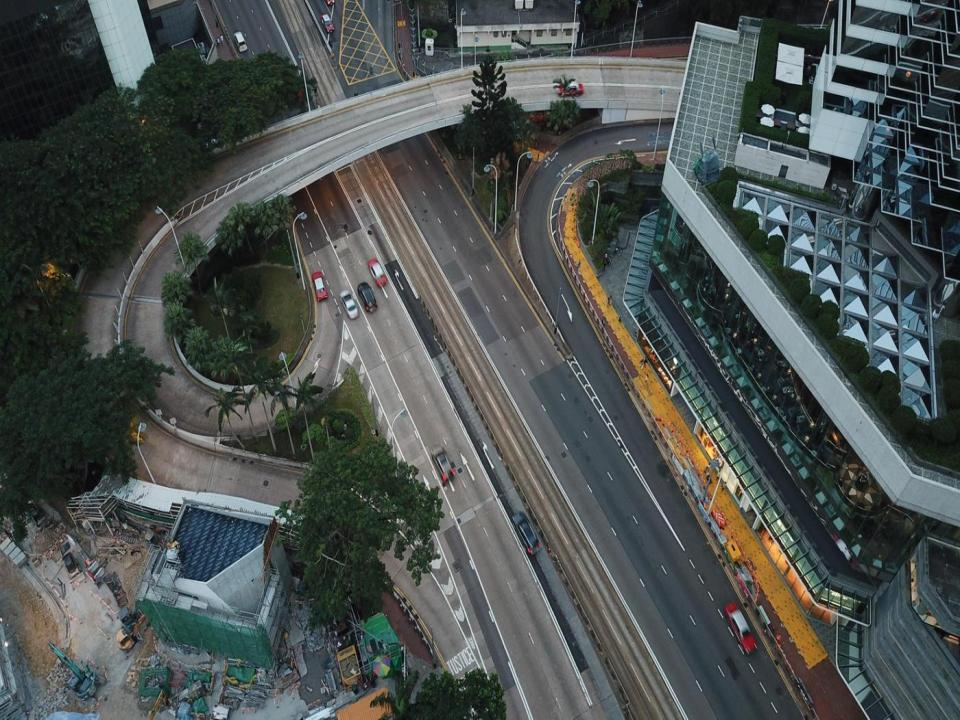car: (726, 601, 758, 658), (429, 444, 456, 482), (355, 284, 379, 314), (338, 287, 359, 321), (365, 256, 387, 288), (310, 270, 327, 302), (556, 79, 584, 96), (232, 29, 247, 52), (321, 11, 332, 30), (326, 0, 337, 7)
van: (510, 510, 540, 554)
